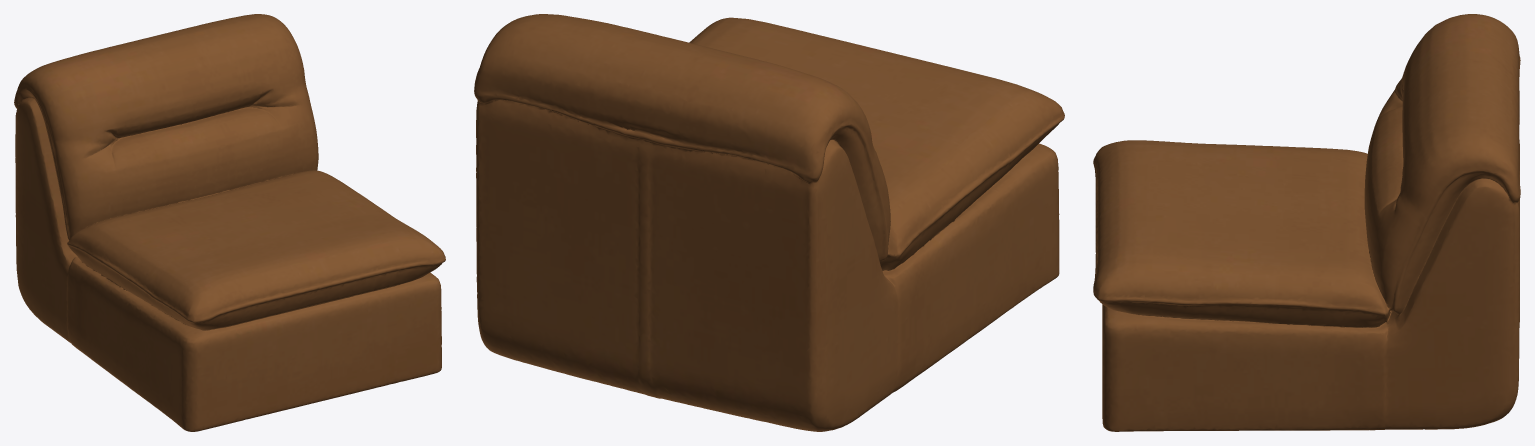
File: Contemporary Upholstered Modular Armless Chair [8uAY90].glb
3 renders of one model, left to right at view 1: azimuth 30°, elevation 25°; view 2: azimuth 150°, elevation 25°; view 3: azimuth 270°, elevation 25°, orthographic. The views are drawn at different scales.
Parts seen in each view (by area): view 1: world; view 2: world; view 3: world.
Boxes of the visible parts, bbox=[...] form: world: bbox=[14, 14, 445, 431]; world: bbox=[474, 14, 1064, 431]; world: bbox=[1093, 14, 1520, 431].
Size of the model in its own units: 0.8164 by 0.7491 by 1.
1 material, 1 textured.
